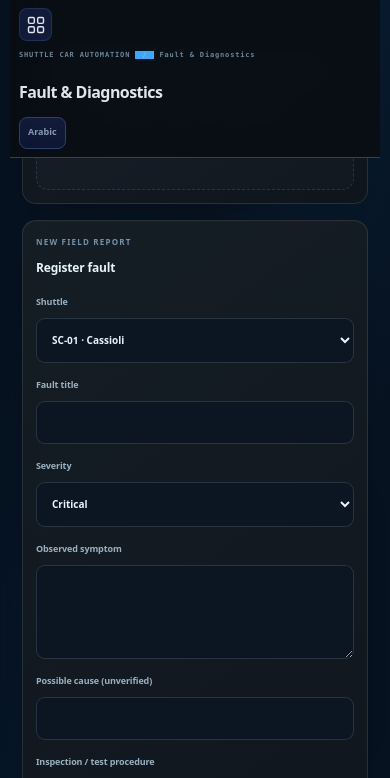
Test: Shuttle Car Automation V8 › creates a formal manually observed fault record for an authorized user
The width and height of the screenshot is (390, 778).
Earlier steps of the test are not shown.
(page scrolled)
Type "Sensor bracket inspection" into the field labelled "Fault title" at (195, 422), box [36,401,354,444]
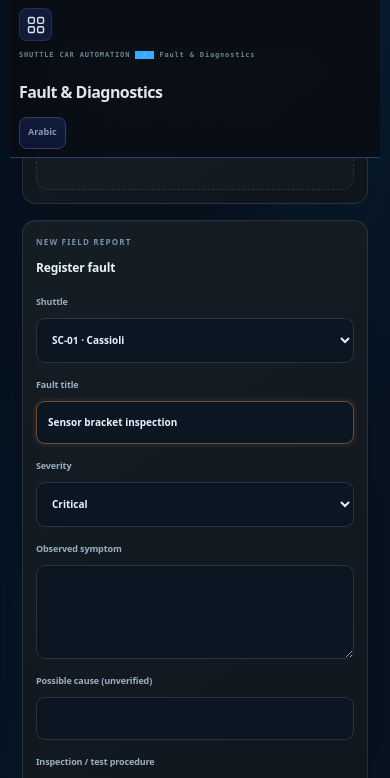
Type "Sensor bracket was loose during inspection." into the text box labelled "Observed symptom" at (195, 612), box [36,565,354,659]
(page scrolled)
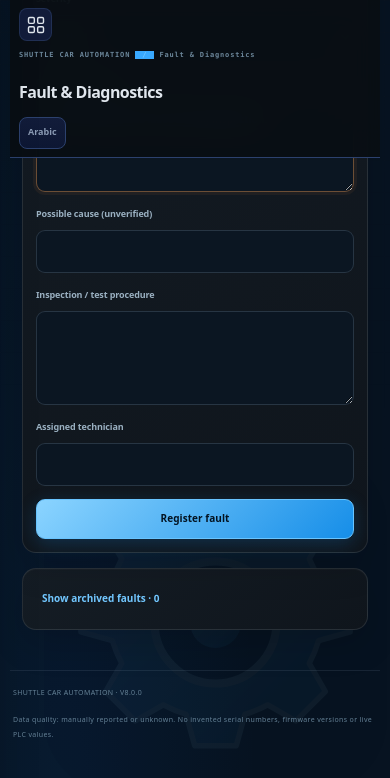
Click the button "Register fault" at (195, 519), box [36,499,354,539]
(page scrolled)
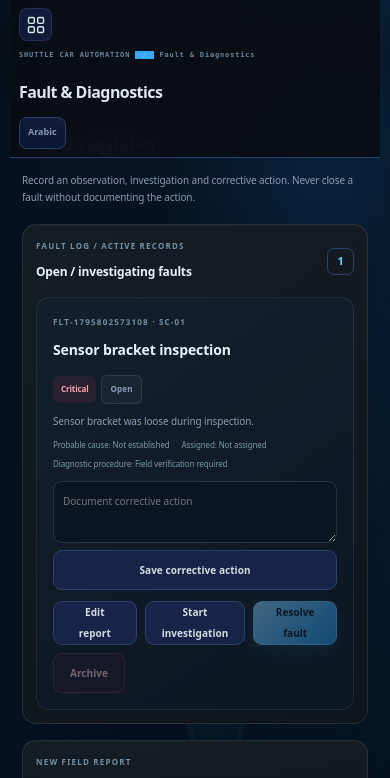
Expected: the text "Sensor bracket was loose during inspection." is shown, [53,411,254,432]
